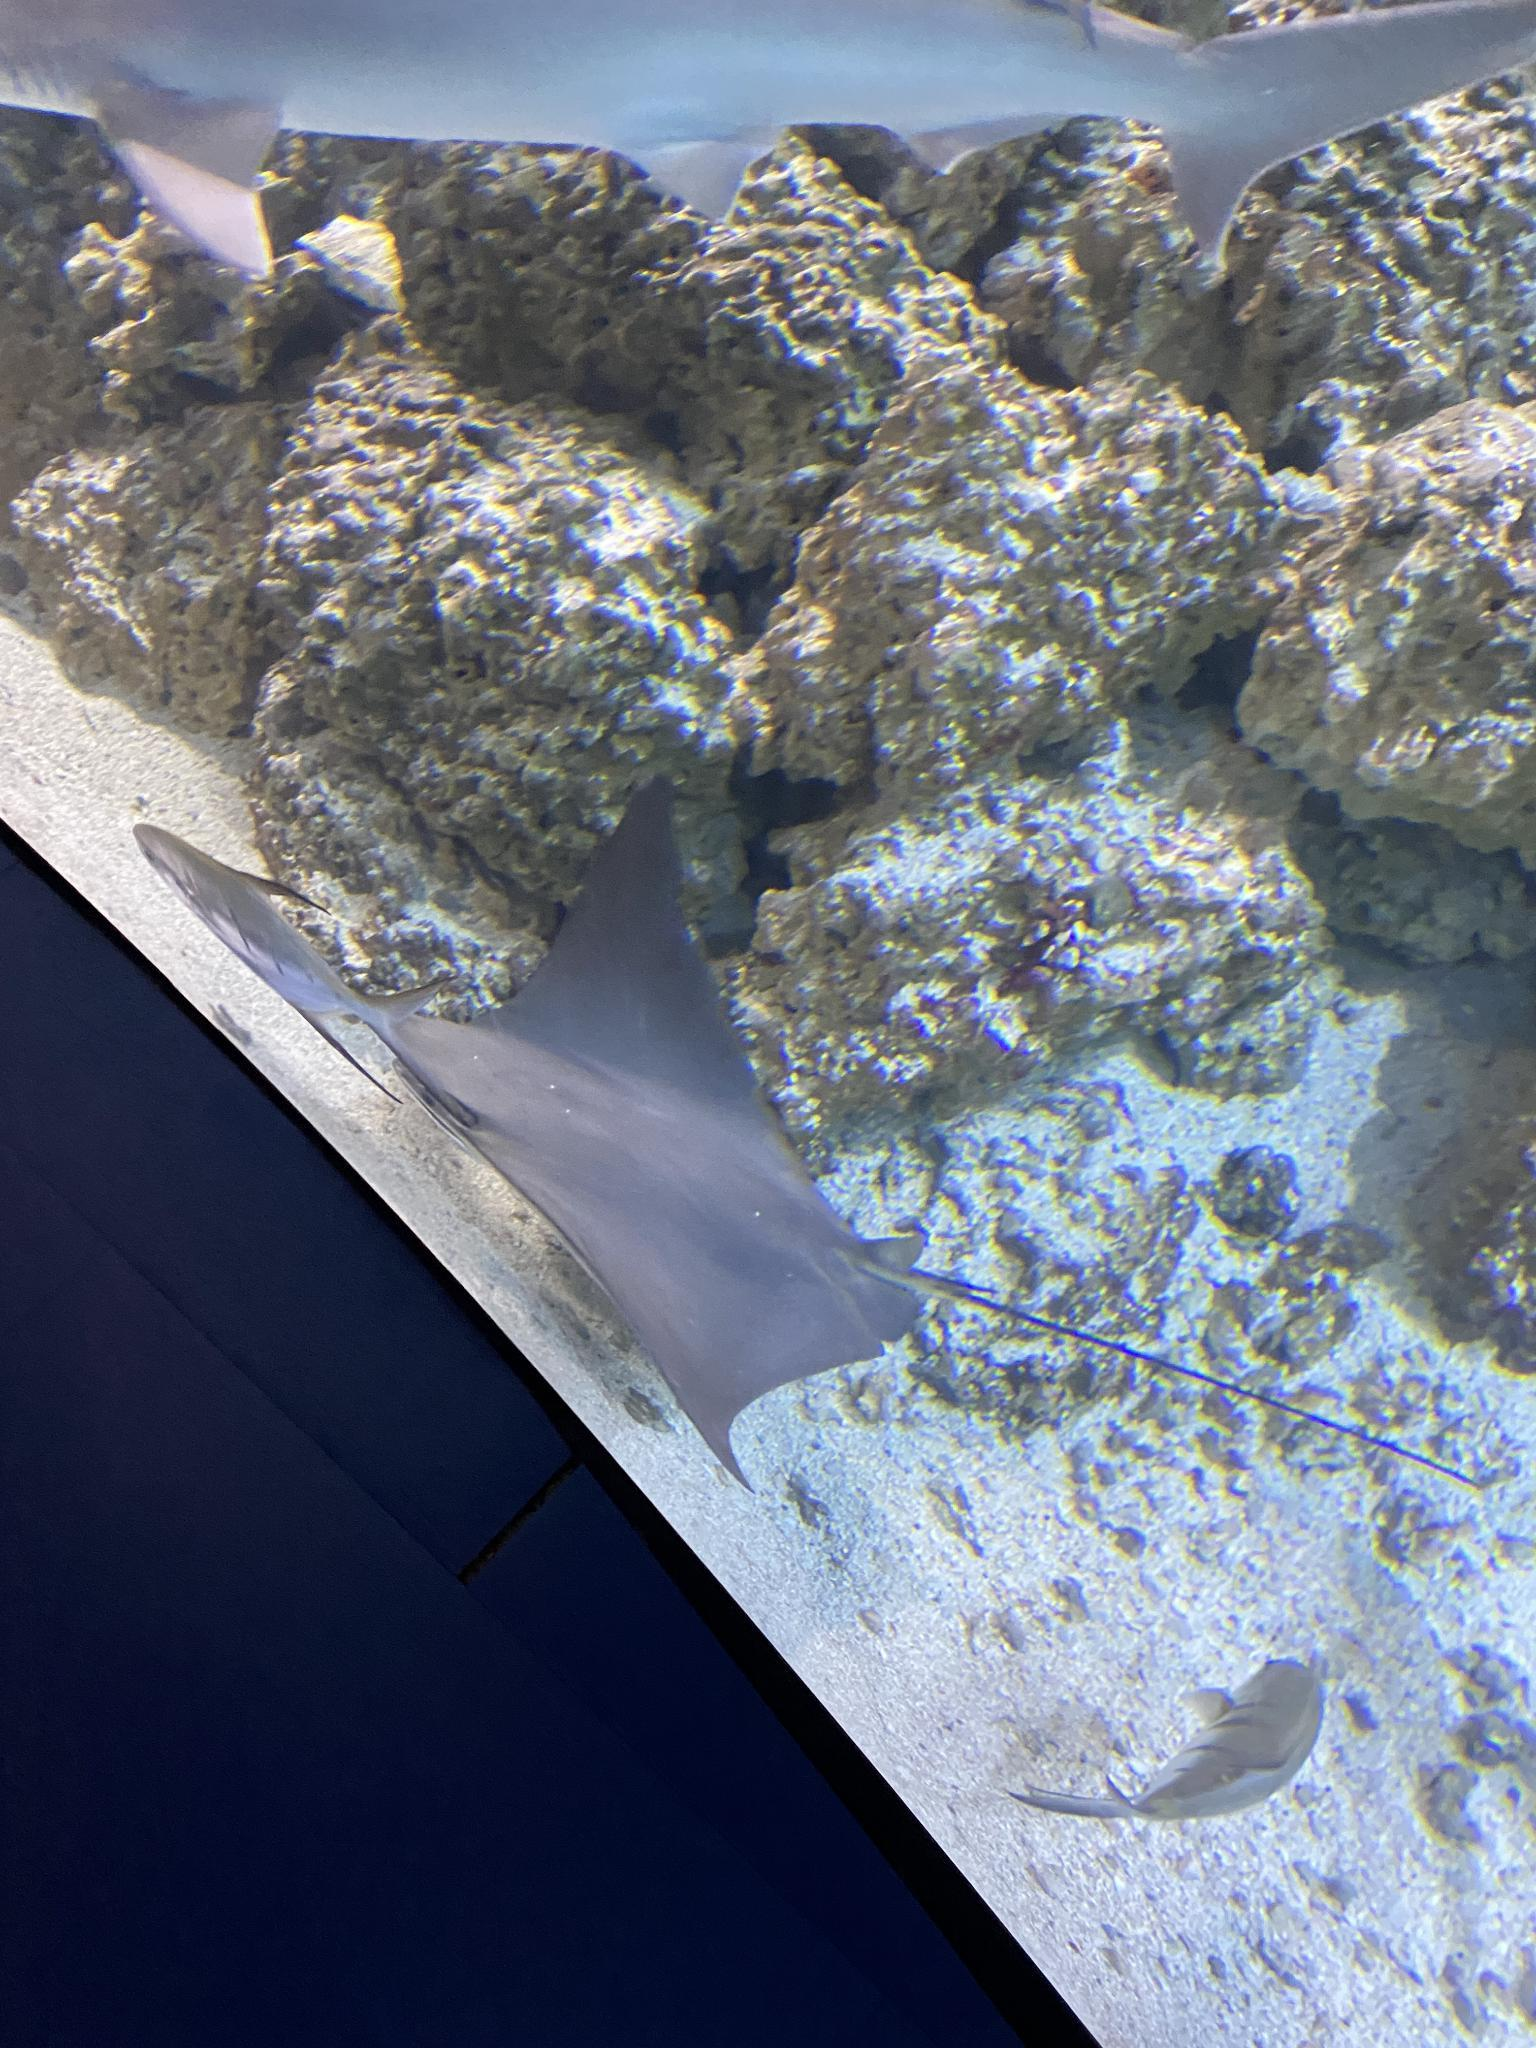fish: (131, 819, 436, 1066), (1028, 1656, 1325, 1817)
shark: (0, 0, 1534, 285)
stingray: (382, 763, 931, 1488)
